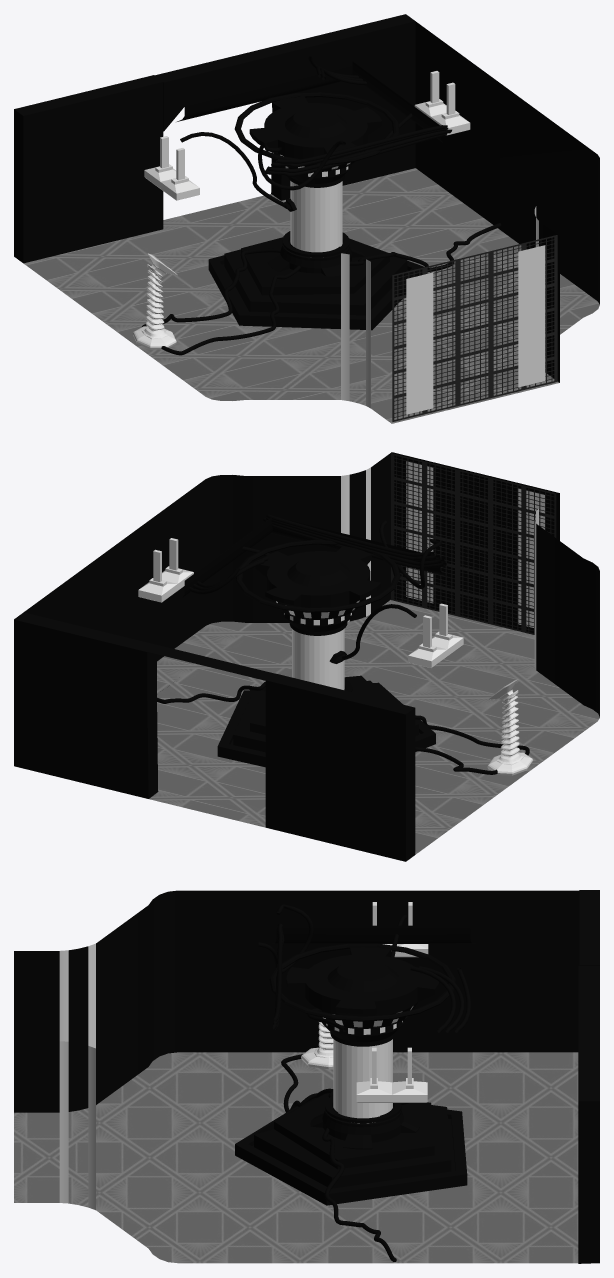
Rendered from Castus.fbx.
The picture shows the model from 3 angles, top to bottom: view 1: azimuth 30°, elevation 25°; view 2: azimuth 150°, elevation 25°; view 3: azimuth 270°, elevation 25°; orthographic projection. The views are drawn at different scales.
Parts seen in each view (by area): view 1: Cube.003, Cube.007, Circle, Cylinder, BezierCurve, Cylinder.001, Cube.009, Cube.005, Cube.004; view 2: Cube.003, Cube.007, Cylinder, BezierCurve, Circle, Cylinder.001, Cube.009, Cube.005, Cube.004; view 3: Cube.003, Circle, Cylinder, BezierCurve, Cylinder.001, Cube.004, Cube.009, Cube.005.
Part boxes in pixels (x1=…): Cube.003: x1=14, y1=14, x2=599, y2=423; Cube.007: x1=392, y1=235, x2=557, y2=421; Circle: x1=208, y1=237, x2=423, y2=330; Cylinder: x1=234, y1=92, x2=399, y2=276; BezierCurve: x1=142, y1=56, x2=501, y2=355; Cylinder.001: x1=290, y1=181, x2=342, y2=252; Cube.009: x1=133, y1=264, x2=176, y2=349; Cube.005: x1=144, y1=136, x2=199, y2=200; Cube.004: x1=414, y1=71, x2=470, y2=135; Cube.003: x1=14, y1=452, x2=599, y2=861; Cube.007: x1=391, y1=453, x2=556, y2=634; Cylinder: x1=236, y1=539, x2=400, y2=691; BezierCurve: x1=157, y1=514, x2=529, y2=774; Circle: x1=217, y1=675, x2=435, y2=767; Cylinder.001: x1=292, y1=628, x2=344, y2=689; Cube.009: x1=487, y1=690, x2=532, y2=775; Cube.005: x1=408, y1=603, x2=463, y2=668; Cube.004: x1=138, y1=538, x2=193, y2=602; Cube.003: x1=14, y1=890, x2=599, y2=1263; Circle: x1=235, y1=1093, x2=467, y2=1205; Cylinder: x1=269, y1=943, x2=455, y2=1149; BezierCurve: x1=258, y1=904, x2=470, y2=1261; Cylinder.001: x1=333, y1=1039, x2=392, y2=1118; Cube.004: x1=356, y1=1047, x2=427, y2=1102; Cube.009: x1=301, y1=1022, x2=333, y2=1069; Cube.005: x1=372, y1=902, x2=428, y2=957.
Bounding box in the file's own units: 679 × 311 × 787.
10 materials, 1 textured.
